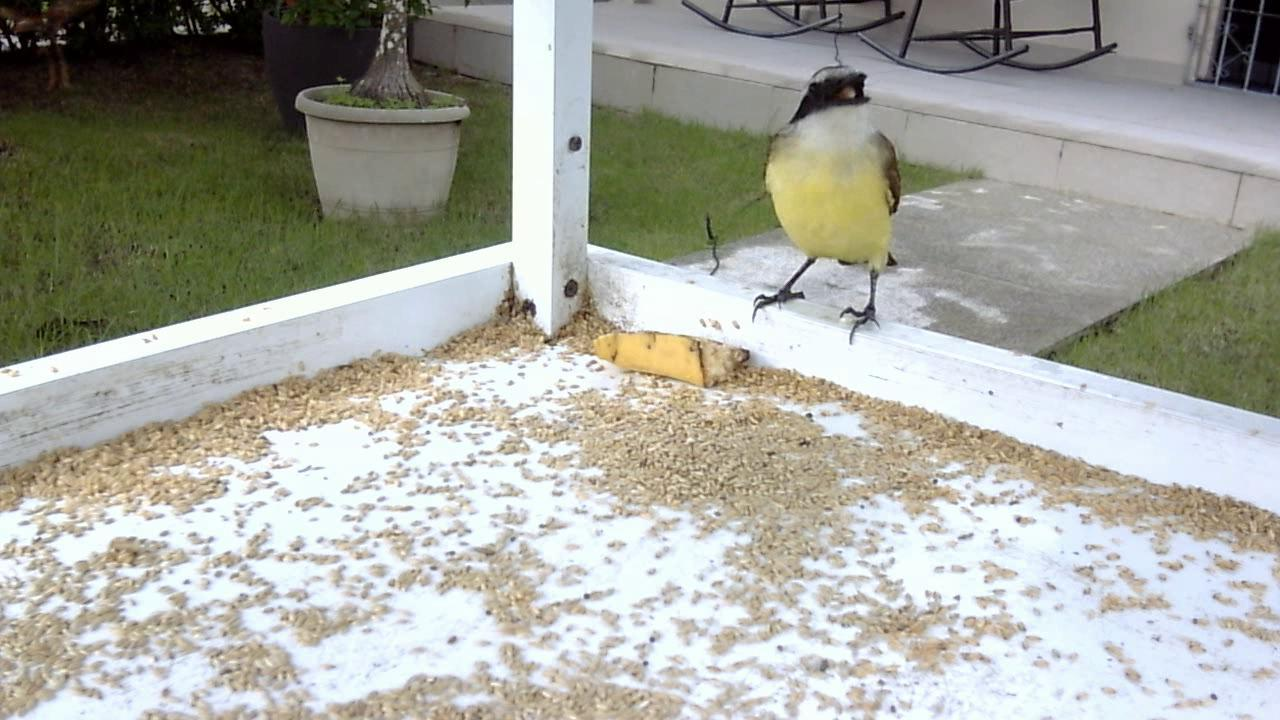bem_te_vi: (736, 44, 917, 357)
